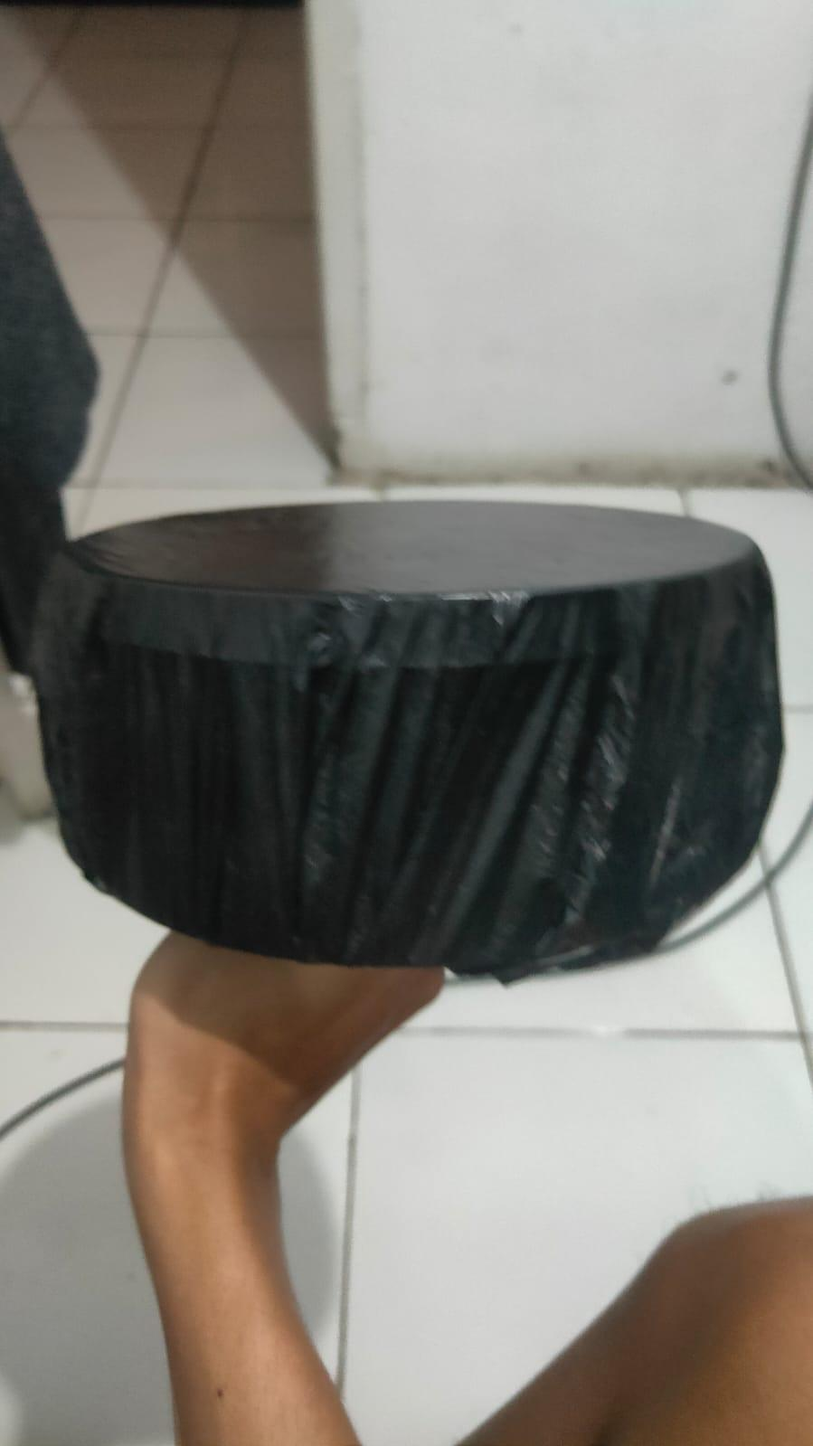undamaged: (26, 483, 781, 989)
